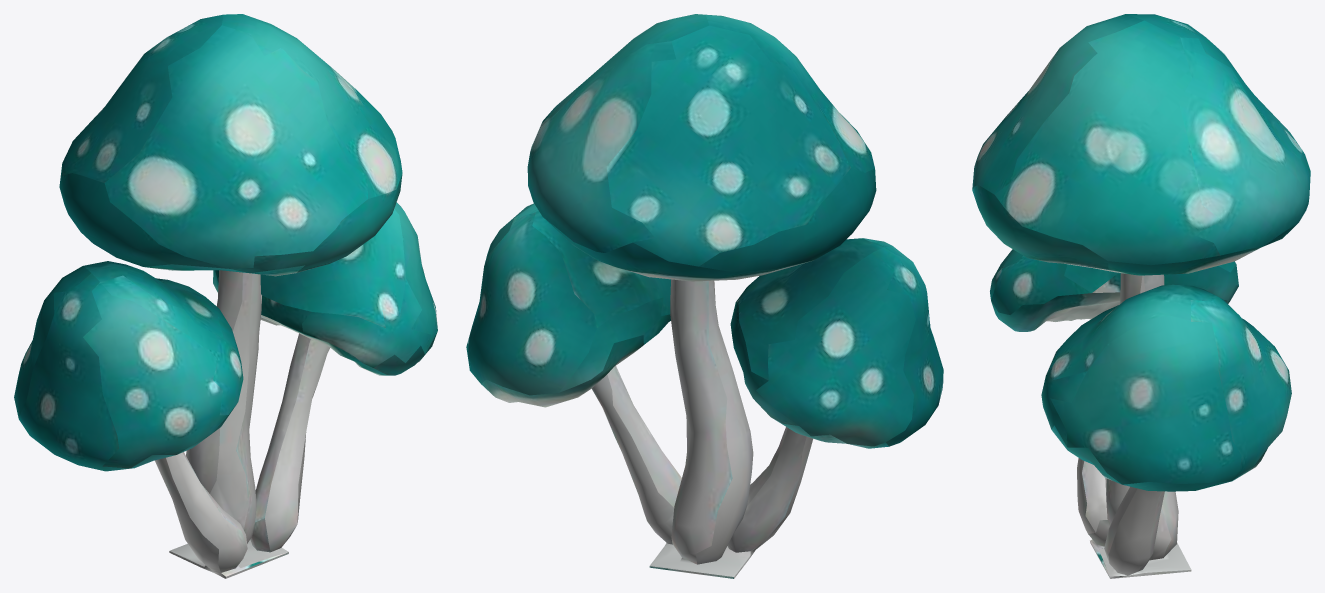
The model's file is glowcap.glb.
3 views of the same model, side by side, from view 1: azimuth 30°, elevation 25°; view 2: azimuth 150°, elevation 25°; view 3: azimuth 270°, elevation 25° (orthographic).
Parts seen in each view (by area): view 1: glowcap; view 2: glowcap; view 3: glowcap.
Part boxes in pixels (x1,y1,x2,y2): glowcap: (14,14,437,578); glowcap: (466,14,943,578); glowcap: (972,14,1310,578).
Bounding box in the file's own units: 0.8178 × 1 × 0.5738.
Materials: 1 (1 with a texture image).
